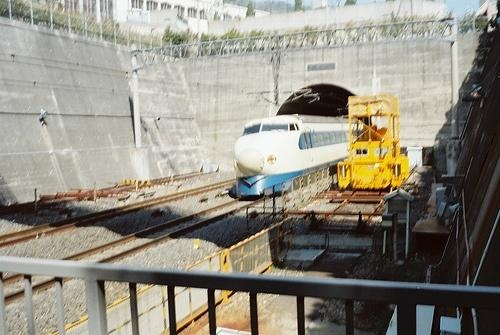train: (231, 113, 372, 196)
